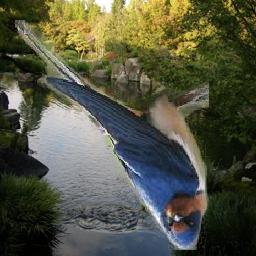Swallow: (15, 20, 209, 250)
